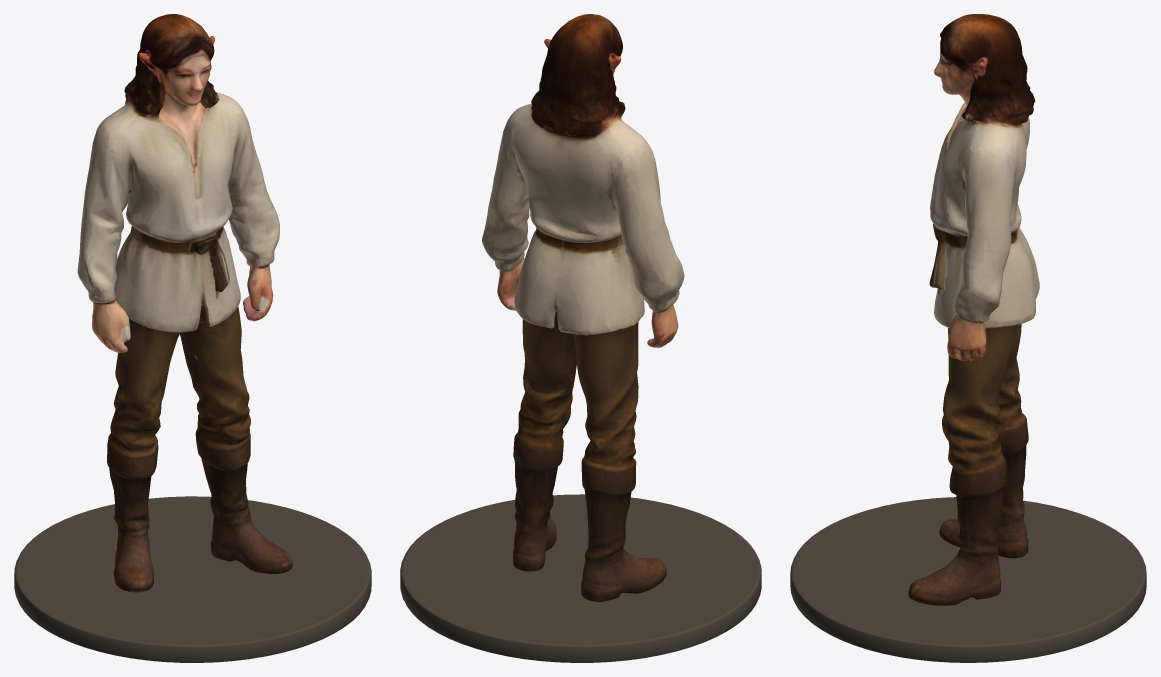
File: elf-commoner.glb
The picture shows the model from 3 angles, left to right: view 1: azimuth 30°, elevation 25°; view 2: azimuth 150°, elevation 25°; view 3: azimuth 270°, elevation 25°; orthographic projection.
Visible parts, largest first — view 1: elf-commoner_body, elf-commoner_round_base; view 2: elf-commoner_body, elf-commoner_round_base; view 3: elf-commoner_body, elf-commoner_round_base.
Part boxes in pixels (x1=…): elf-commoner_body: x1=77, y1=14, x2=292, y2=592; elf-commoner_round_base: x1=14, y1=496, x2=371, y2=662; elf-commoner_body: x1=482, y1=14, x2=684, y2=601; elf-commoner_round_base: x1=400, y1=494, x2=761, y2=662; elf-commoner_body: x1=908, y1=14, x2=1039, y2=605; elf-commoner_round_base: x1=790, y1=497, x2=1146, y2=662.
Size of the model in its own units: 1 by 1.75 by 1.
Materials: 2 (1 with a texture image).
